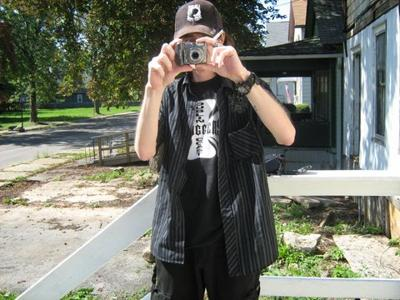person: (136, 2, 297, 300)
